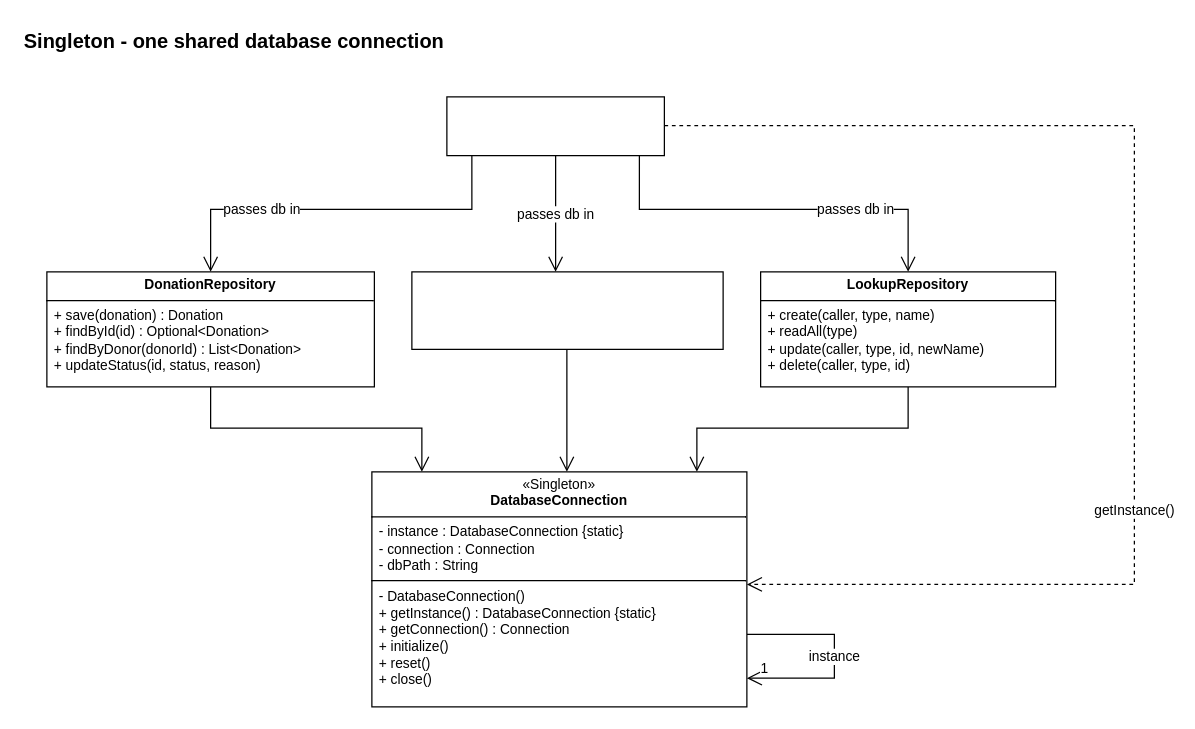
Image size: 1195x729. Some labels were removed from this diagram. The shapes that lost their labels are listed below. From the top down, each one's box as (x1, y1, x2, y2) in pixels, then its label:
(446, 96, 664, 156): AppContext - db : DatabaseConnection
(411, 271, 723, 349): UserRepository + save(user) : User + findByEmail(email) : Optional<User>
